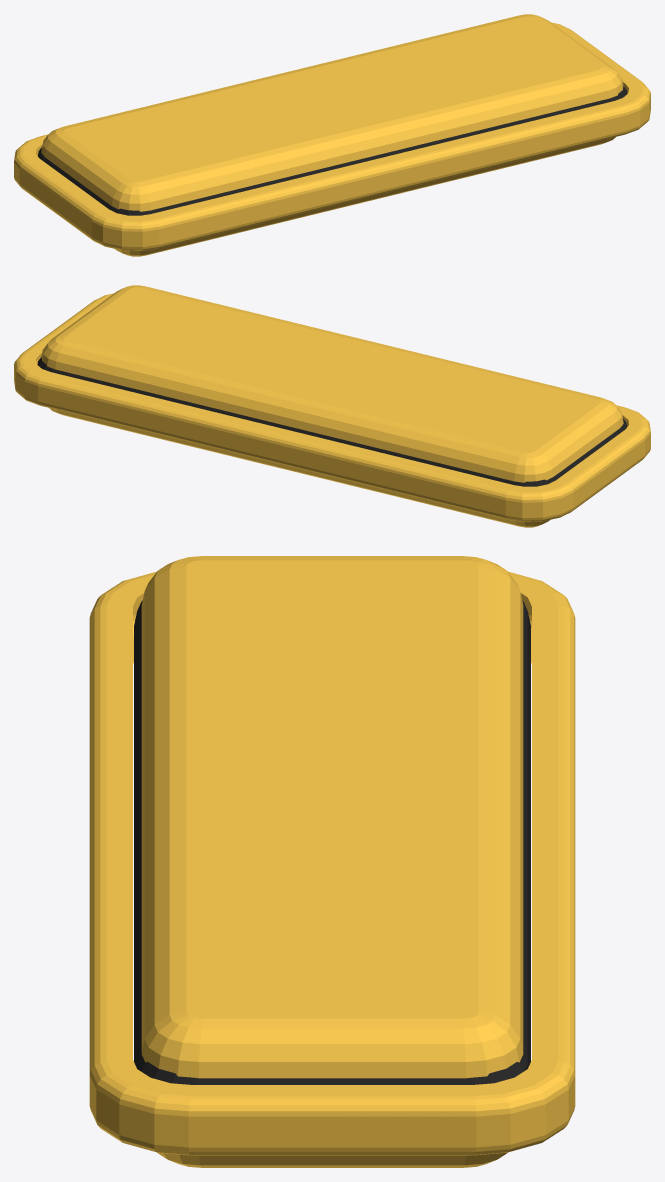
Rendered from Button_BuyPowerUps.fbx.
3 renders of one model, top to bottom at view 1: azimuth 30°, elevation 25°; view 2: azimuth 150°, elevation 25°; view 3: azimuth 270°, elevation 25°, orthographic. The views are drawn at different scales.
Visible parts, largest first — view 1: Cube, Cube_12, Cube_10; view 2: Cube, Cube_12, Cube_10; view 3: Cube, Cube_12, Cube_10.
Part boxes in pixels (x1=…): Cube: x1=41, y1=14, x2=623, y2=256; Cube_12: x1=14, y1=22, x2=650, y2=250; Cube_10: x1=38, y1=86, x2=627, y2=215; Cube: x1=41, y1=285, x2=623, y2=527; Cube_12: x1=14, y1=293, x2=650, y2=521; Cube_10: x1=37, y1=357, x2=626, y2=486; Cube: x1=141, y1=556, x2=523, y2=1167; Cube_12: x1=89, y1=571, x2=575, y2=1155; Cube_10: x1=134, y1=600, x2=530, y2=1084.
Bounding box in the file's own units: 669 × 83.75 × 254.
